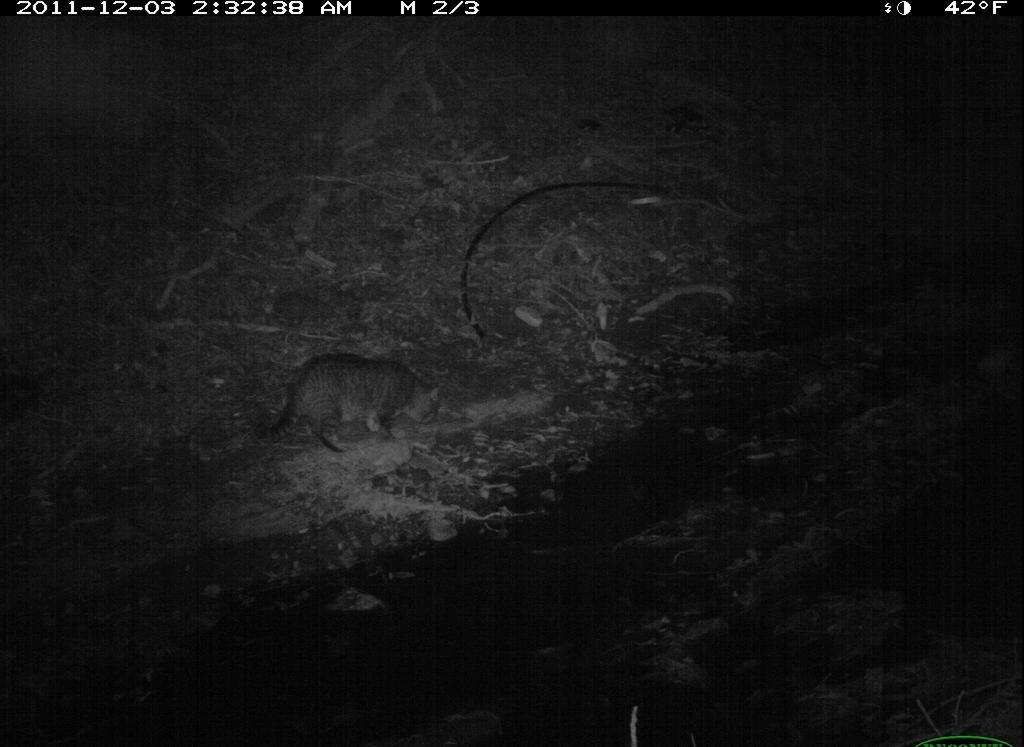cat: (236, 329, 457, 465)
